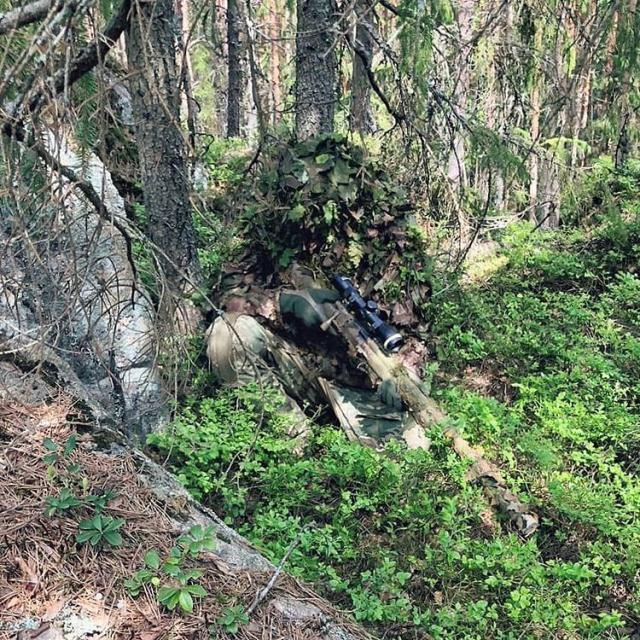Camouflage: (207, 136, 539, 545)
